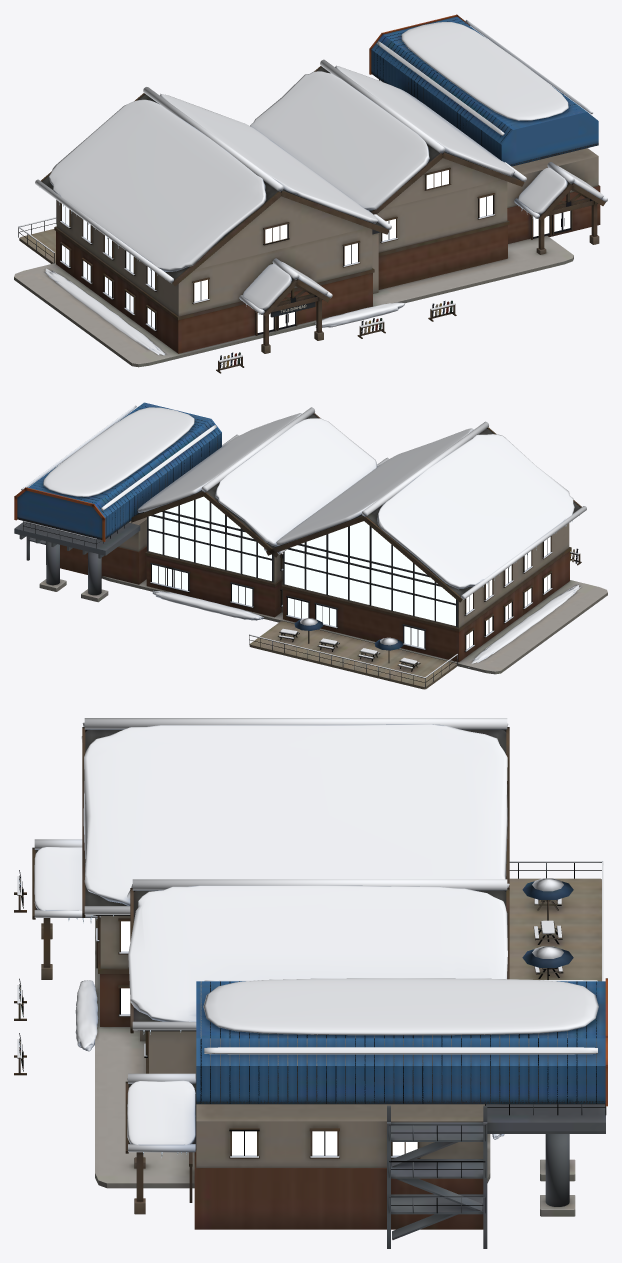
Rendered from thunderhead_lodge.glb.
The picture shows the model from 3 angles, top to bottom: view 1: azimuth 30°, elevation 25°; view 2: azimuth 150°, elevation 25°; view 3: azimuth 270°, elevation 25°; orthographic projection. The views are drawn at different scales.
Parts seen in each view (by area): view 1: thunderhead_lodge, thunderhead_lodge_snow, thunderhead_lodge_lit; view 2: thunderhead_lodge_snow, thunderhead_lodge, thunderhead_lodge_lit; view 3: thunderhead_lodge_snow, thunderhead_lodge, thunderhead_lodge_lit.
Boxes of the visible parts, box(x1,y1,x2,y2) form: thunderhead_lodge: box(14, 14, 605, 373); thunderhead_lodge_snow: box(18, 20, 607, 362); thunderhead_lodge_lit: box(62, 170, 570, 332); thunderhead_lodge_snow: box(21, 405, 586, 677); thunderhead_lodge: box(14, 402, 607, 689); thunderhead_lodge_lit: box(148, 496, 550, 649); thunderhead_lodge_snow: box(17, 718, 603, 1157); thunderhead_lodge: box(14, 727, 607, 1248); thunderhead_lodge_lit: box(121, 921, 417, 1155).
Bounding box in the file's own units: 58.93 × 16.72 × 36.98.
6 materials, 1 textured.
